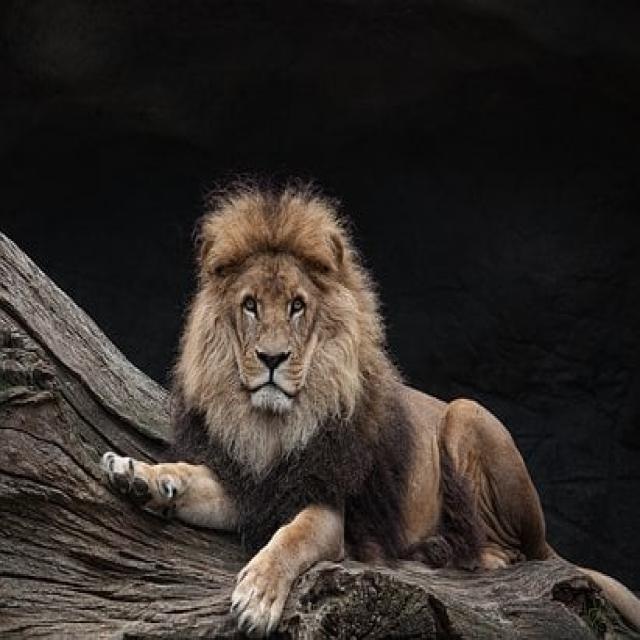Lion: (96, 187, 552, 628)
